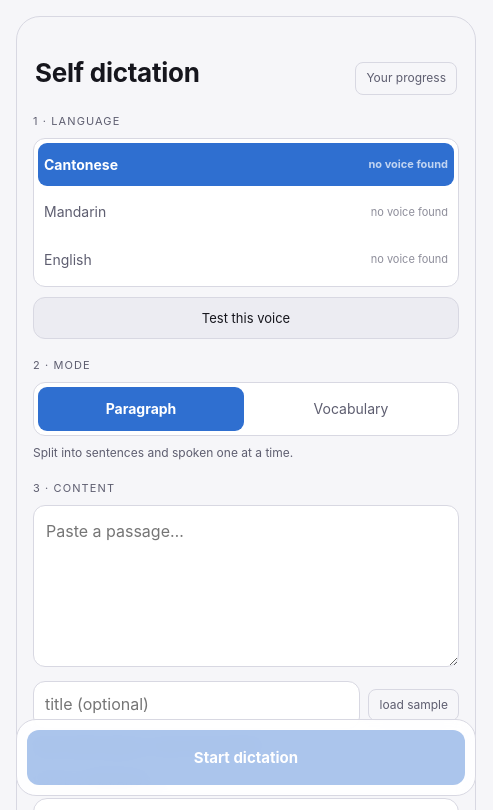
Test: App › keeps a Run where something was typed, because that is an answer too
The width and height of the screenshot is (493, 810).
// English is typed by default, so the answer goes into a box.
Click the button "English no voice found" at (68, 260), box [38, 238, 454, 282]
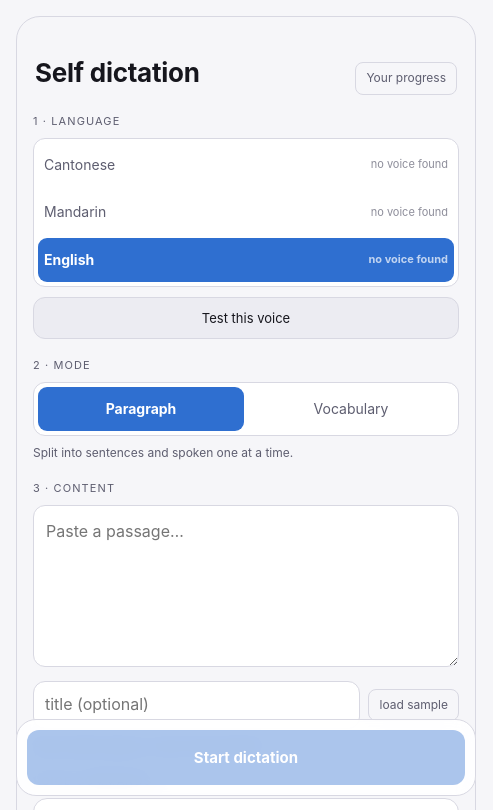
Click the button "Vocabulary" at (351, 409), box [248, 387, 454, 431]
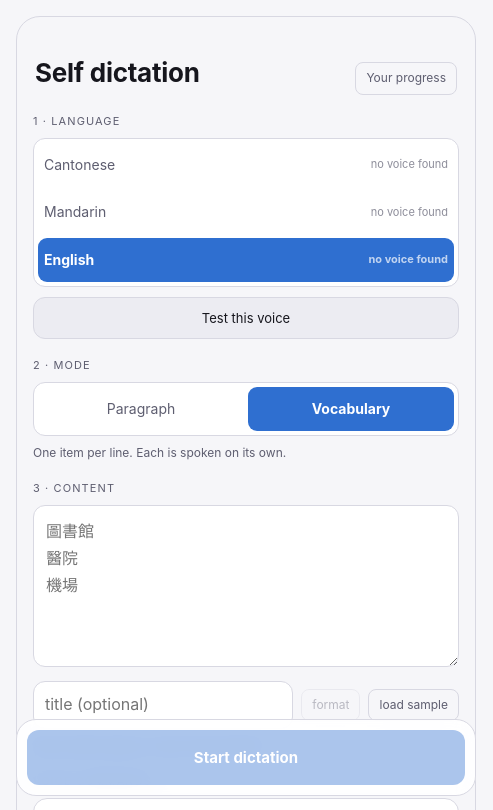
Type "library" into the text box with placeholder "圖書館 醫院 機場" at (246, 586), box [33, 505, 459, 666]
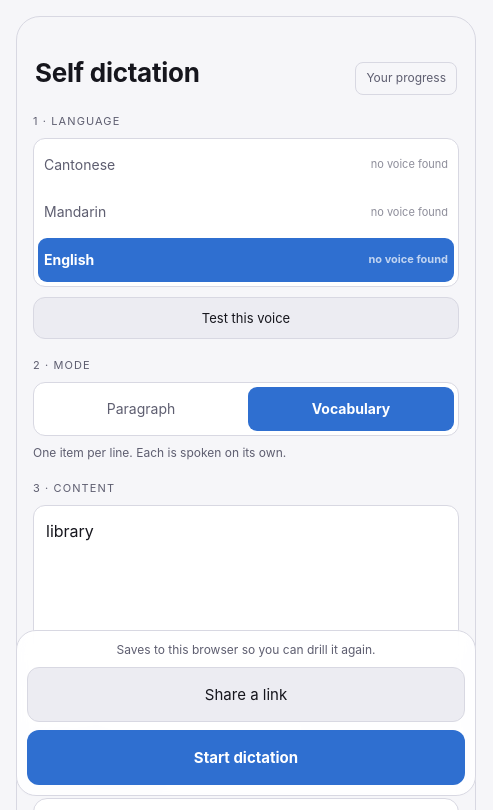
Click the button "Start dictation" at (246, 757), box [27, 730, 465, 785]
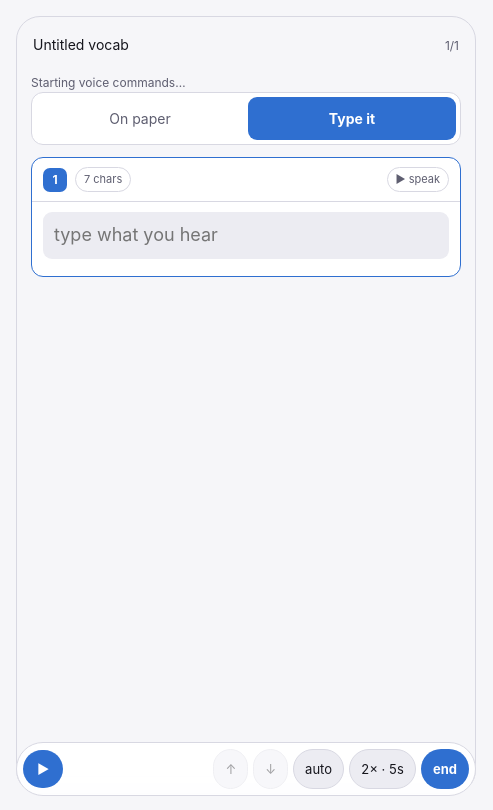
Type "library" into the text box named "answer for chunk 1" at (246, 236), box [43, 212, 449, 259]
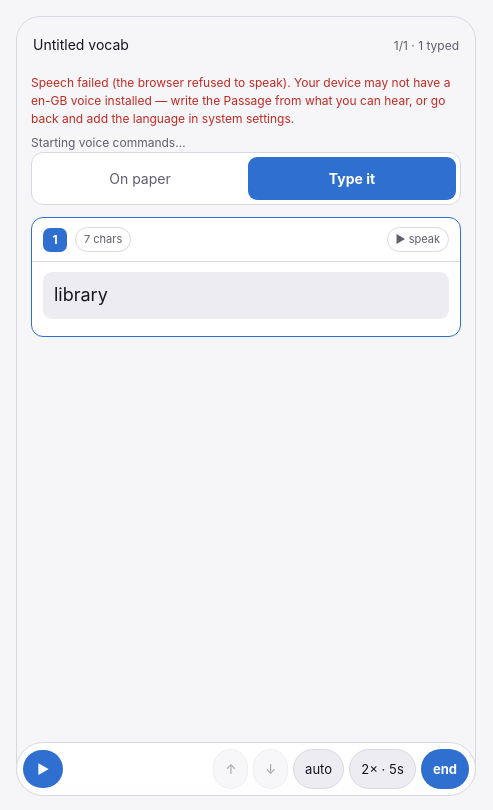
Click the button "end" at (445, 769), box [421, 749, 469, 789]
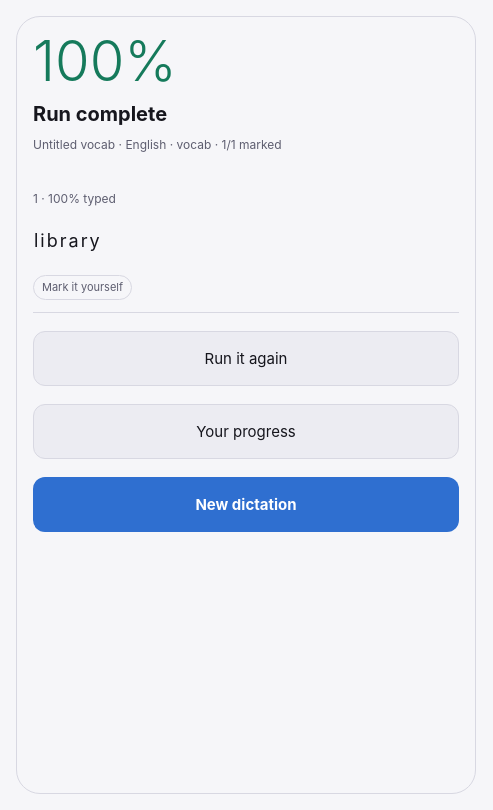
Expected: the element showing "library" is shown, [34, 230, 100, 251]
